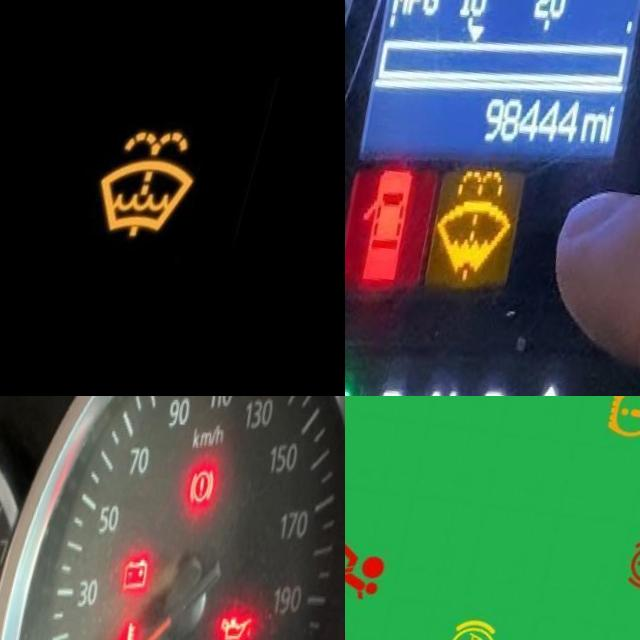High Engine Coolant Temperature: (127, 605, 161, 640)
Washer Fluid: (103, 119, 212, 234), (448, 160, 540, 271)
